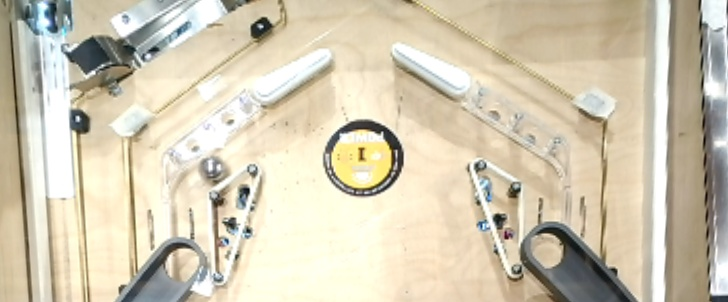ball: (198, 154, 228, 186)
flipper-left: (392, 41, 475, 105)
flipper-right: (251, 45, 334, 109)
